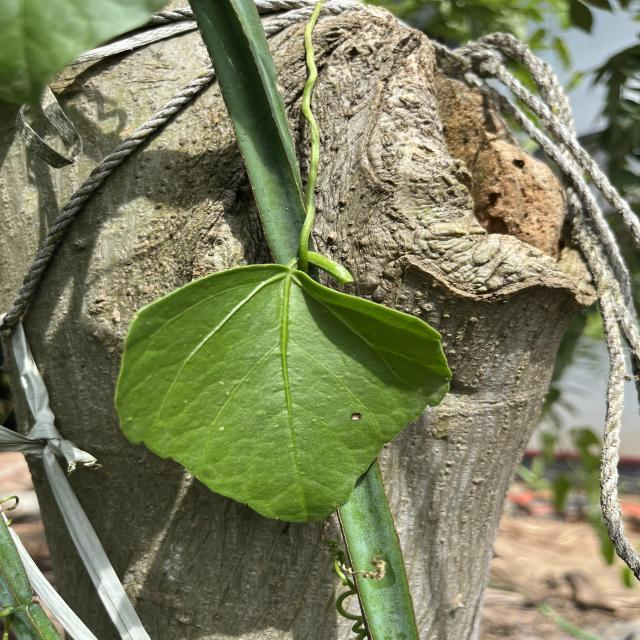Cissus quadrangularis: (110, 261, 454, 526)
